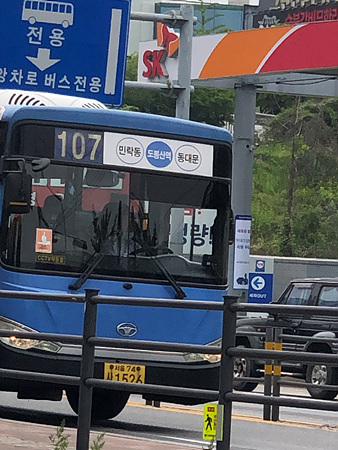bnum: (56, 129, 103, 161)
